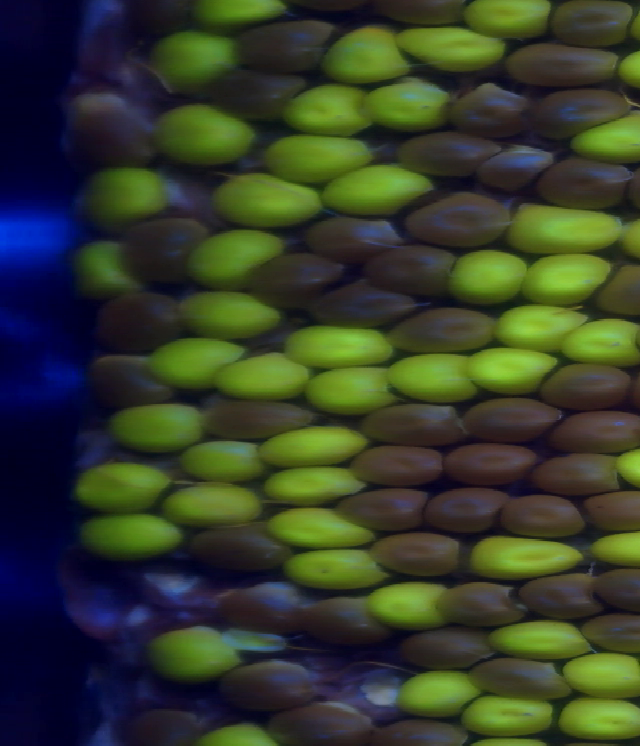fluorescent: (208, 164, 334, 227), (149, 101, 256, 167), (327, 153, 437, 217), (185, 221, 284, 291), (472, 529, 584, 587), (262, 126, 373, 183), (507, 201, 630, 252), (139, 627, 248, 684), (395, 23, 513, 74), (158, 478, 273, 529), (75, 164, 165, 229), (66, 510, 194, 554), (212, 346, 312, 401), (172, 289, 286, 336), (68, 465, 185, 510), (271, 504, 382, 551), (272, 81, 370, 134), (451, 247, 531, 311), (522, 250, 611, 307), (384, 354, 489, 402), (302, 364, 397, 417), (151, 338, 247, 389), (252, 427, 377, 466), (487, 617, 595, 662), (365, 75, 451, 131), (288, 544, 388, 592), (326, 27, 412, 82), (108, 404, 206, 452), (455, 691, 561, 735), (62, 238, 142, 295), (555, 314, 640, 367), (498, 301, 588, 351), (392, 669, 491, 714), (156, 38, 246, 87), (284, 327, 391, 367), (550, 694, 640, 741), (561, 649, 640, 701), (457, 1, 558, 41), (265, 467, 377, 503), (368, 583, 456, 628), (470, 347, 560, 391), (179, 436, 267, 481), (571, 107, 640, 164), (180, 1, 294, 29), (196, 714, 277, 746), (591, 530, 640, 563)
nonfluorescent: (63, 86, 160, 168), (120, 216, 219, 280), (308, 275, 421, 328), (223, 573, 314, 636), (503, 39, 625, 85), (405, 196, 516, 246), (252, 252, 340, 315), (534, 152, 631, 209), (77, 352, 177, 407), (93, 292, 193, 345), (393, 306, 493, 358), (242, 22, 336, 76), (533, 88, 630, 140), (218, 654, 315, 706), (341, 440, 445, 487), (194, 528, 296, 575), (208, 401, 324, 442), (511, 573, 608, 622), (539, 361, 638, 409), (473, 656, 575, 702), (524, 452, 626, 498), (463, 399, 569, 443), (269, 703, 377, 746), (363, 405, 468, 449), (548, 1, 634, 54), (364, 243, 457, 292), (438, 582, 536, 628), (308, 217, 404, 263), (335, 486, 428, 533), (214, 69, 303, 118), (443, 443, 543, 486), (301, 597, 392, 644), (368, 531, 459, 578), (549, 408, 640, 453), (424, 487, 504, 538), (501, 490, 581, 539), (400, 129, 489, 173), (404, 628, 493, 668), (117, 706, 203, 746), (128, 1, 206, 44), (454, 88, 531, 130), (371, 1, 473, 29), (483, 145, 549, 188), (372, 718, 463, 746), (588, 570, 640, 619), (597, 262, 640, 319), (579, 612, 640, 652), (579, 493, 640, 528)
